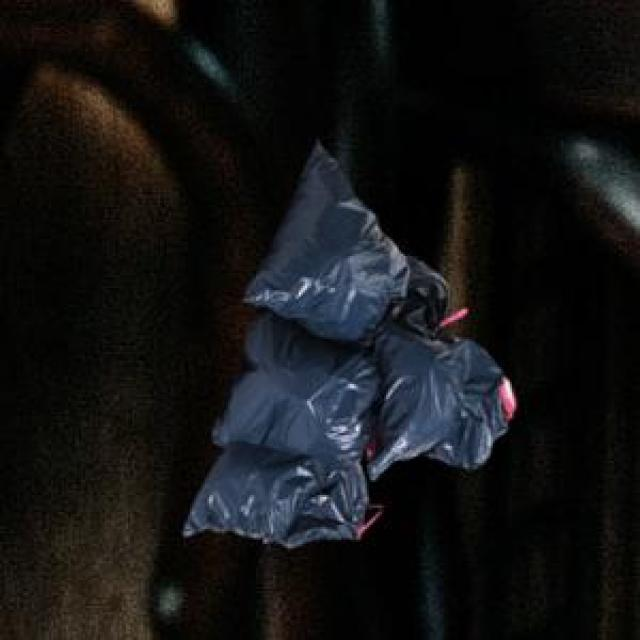Vinyl: (184, 144, 509, 547)
